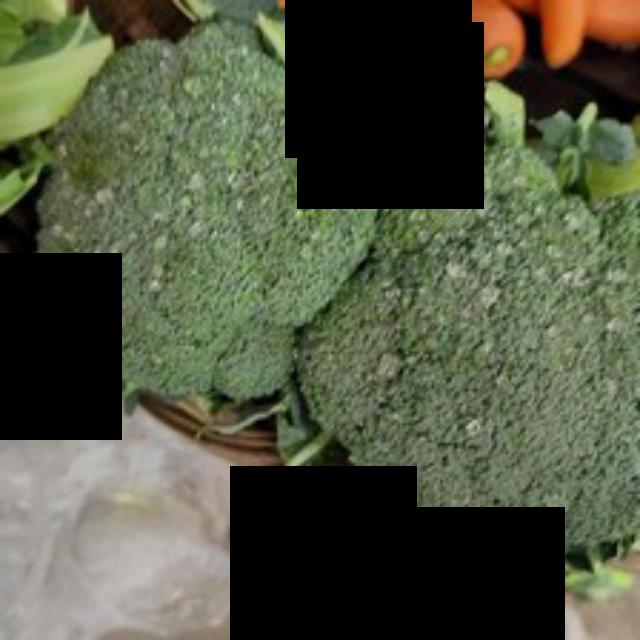broccoli: (312, 130, 640, 552), (60, 15, 394, 415)
